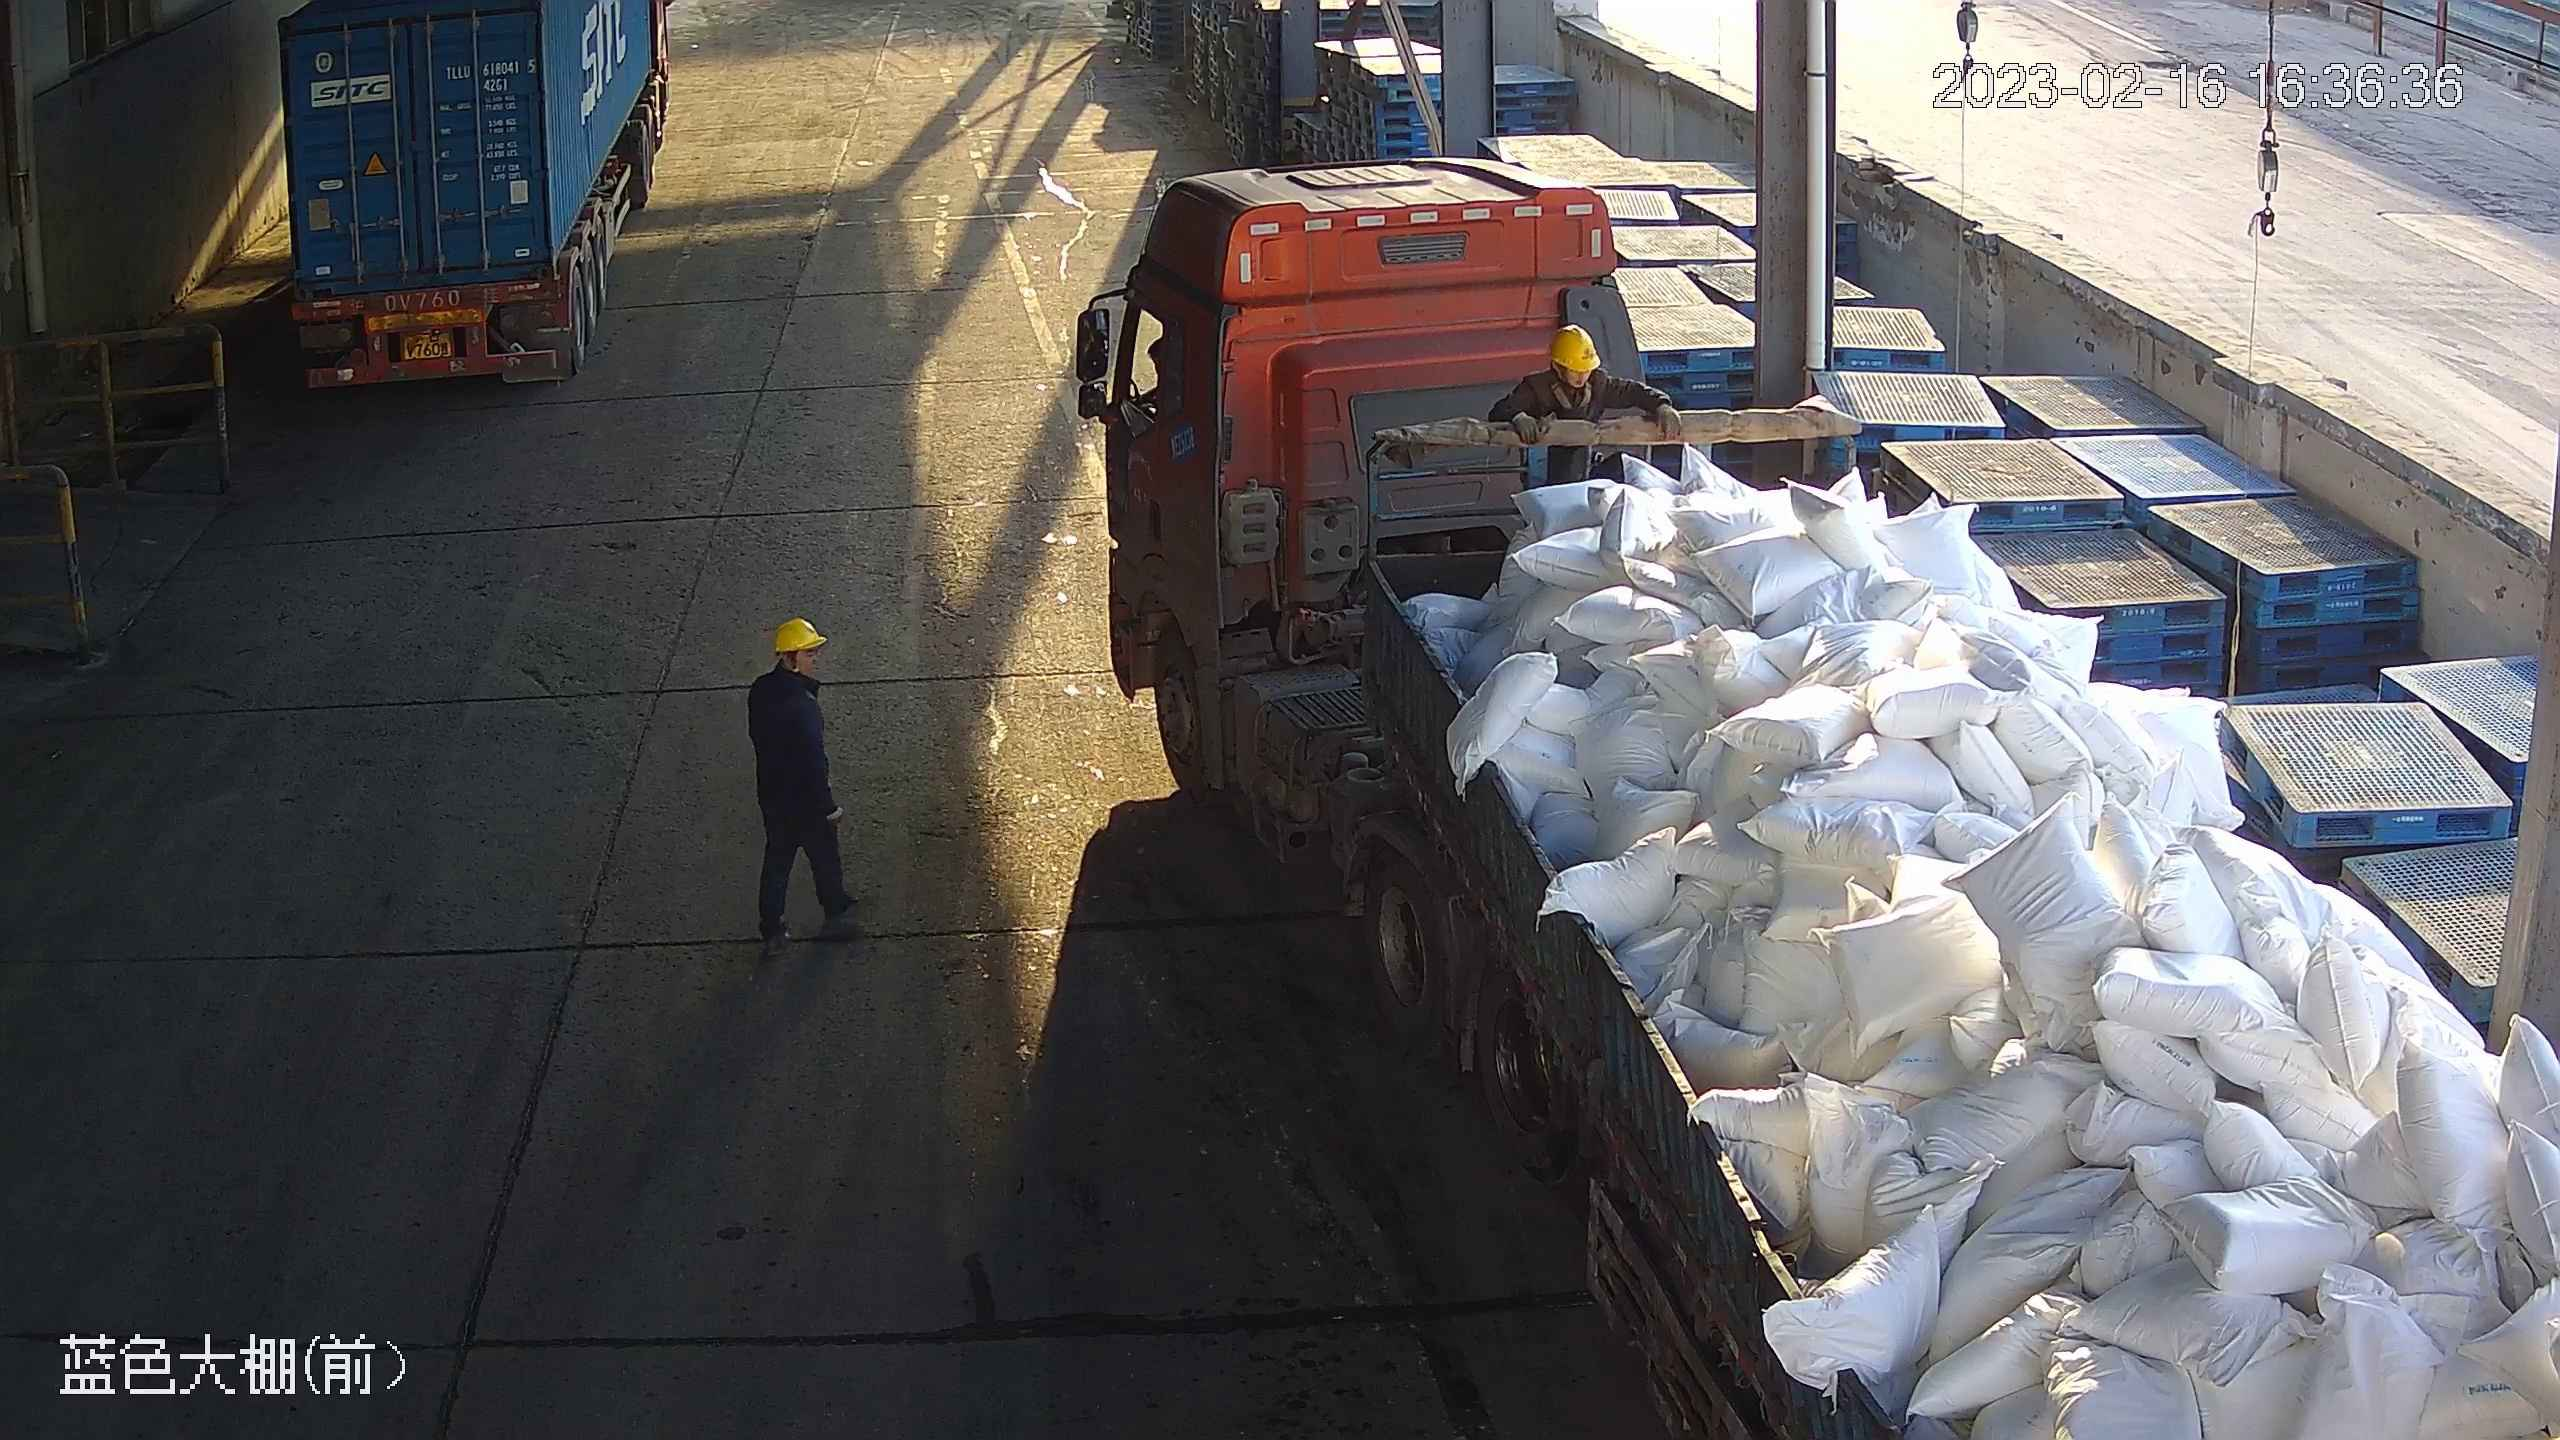belt: (1551, 376, 1601, 411)
head: (1498, 326, 1632, 412), (745, 617, 825, 722)
helmet: (769, 620, 829, 657), (1552, 325, 1598, 371)
people: (742, 617, 862, 957)
truck: (1074, 161, 2560, 1440), (269, 1, 674, 398)
